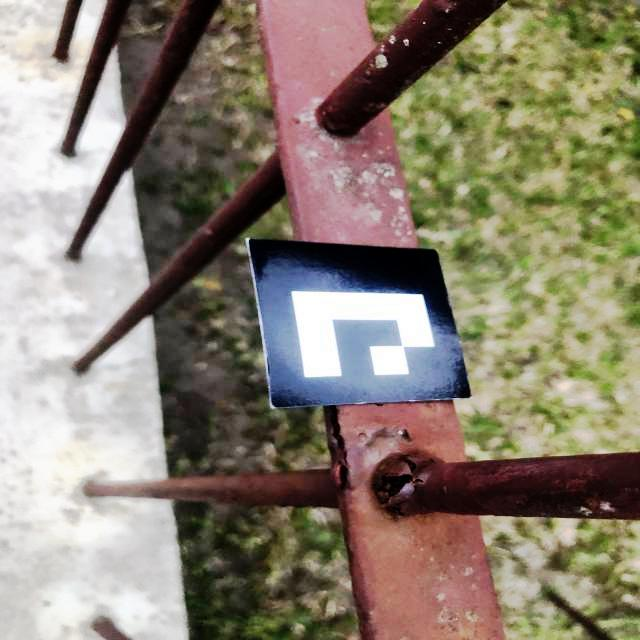Corrosion: (370, 452, 437, 516), (325, 405, 355, 498), (356, 427, 413, 447), (376, 403, 386, 406)
